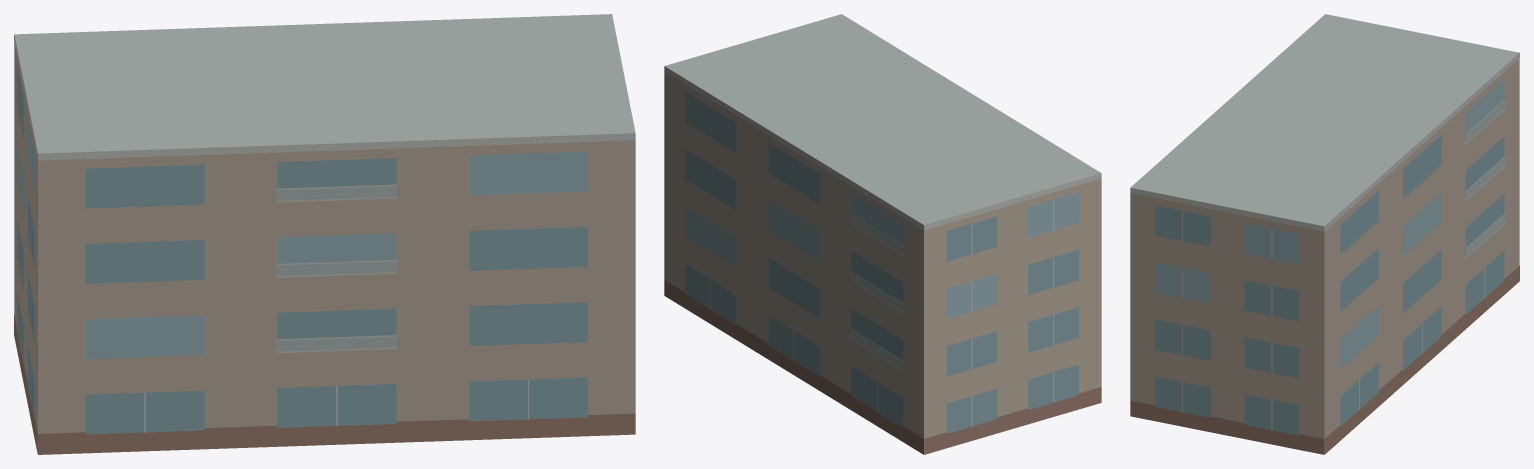
Rendered from survey-upis-32968414.glb.
3 renders of one model, left to right at view 1: azimuth 30°, elevation 25°; view 2: azimuth 150°, elevation 25°; view 3: azimuth 270°, elevation 25°, orthographic. The views are drawn at different scales.
Visible parts, largest first — view 1: survey-upis-32968414.tmp; view 2: survey-upis-32968414.tmp; view 3: survey-upis-32968414.tmp.
Boxes of the visible parts, x1=… form: survey-upis-32968414.tmp: x1=14, y1=14, x2=635, y2=454; survey-upis-32968414.tmp: x1=664, y1=14, x2=1101, y2=454; survey-upis-32968414.tmp: x1=1130, y1=14, x2=1519, y2=454.
Size of the model in its own units: 20.73 by 10.4 by 16.07.
